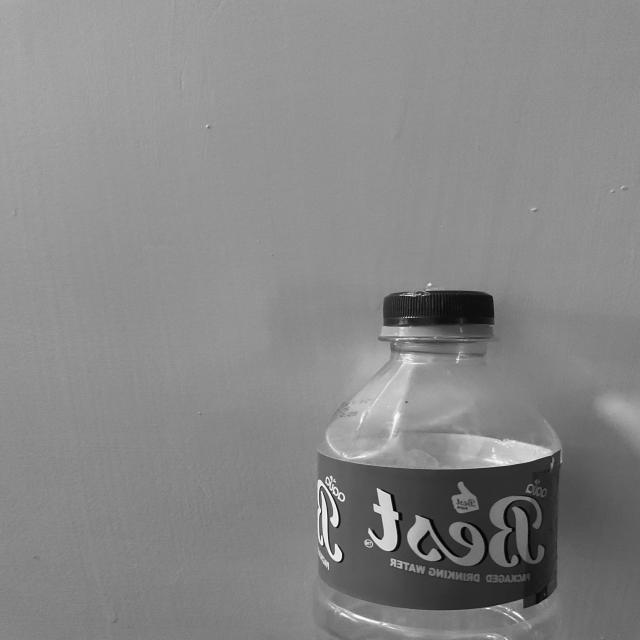Good-cap-Df0S: (368, 284, 508, 344)
